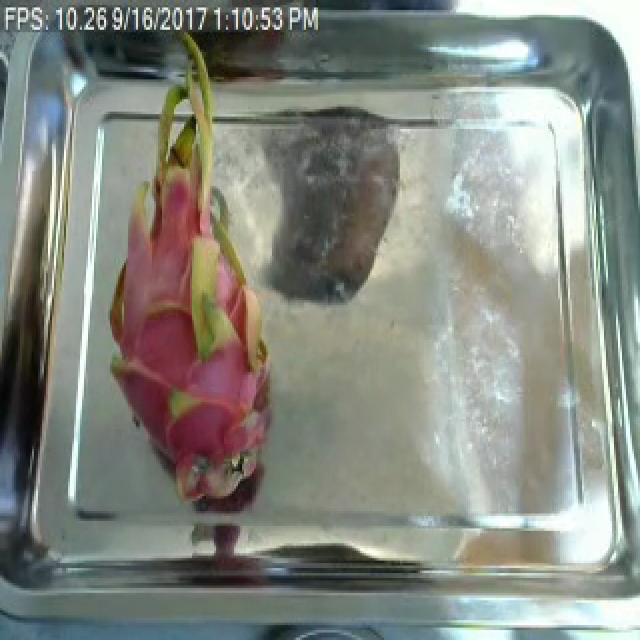fruit: (86, 74, 296, 503)
